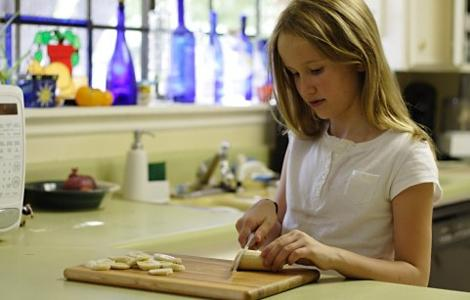person: (235, 2, 445, 287)
